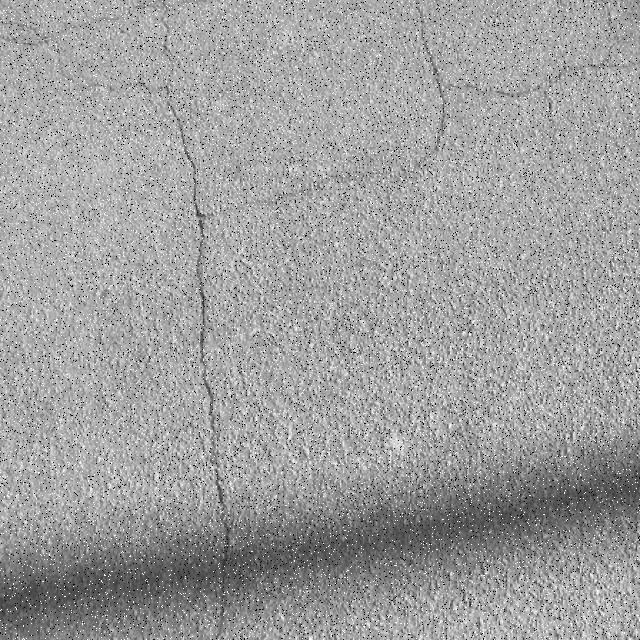Crack: (0, 2, 634, 639)
